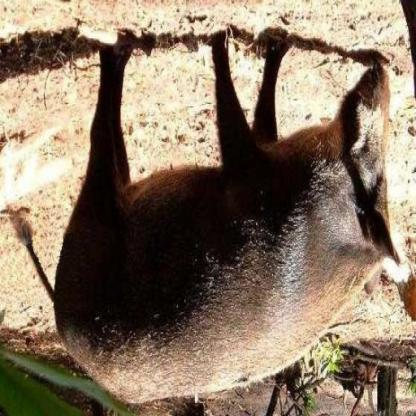boar: (44, 14, 415, 404)
